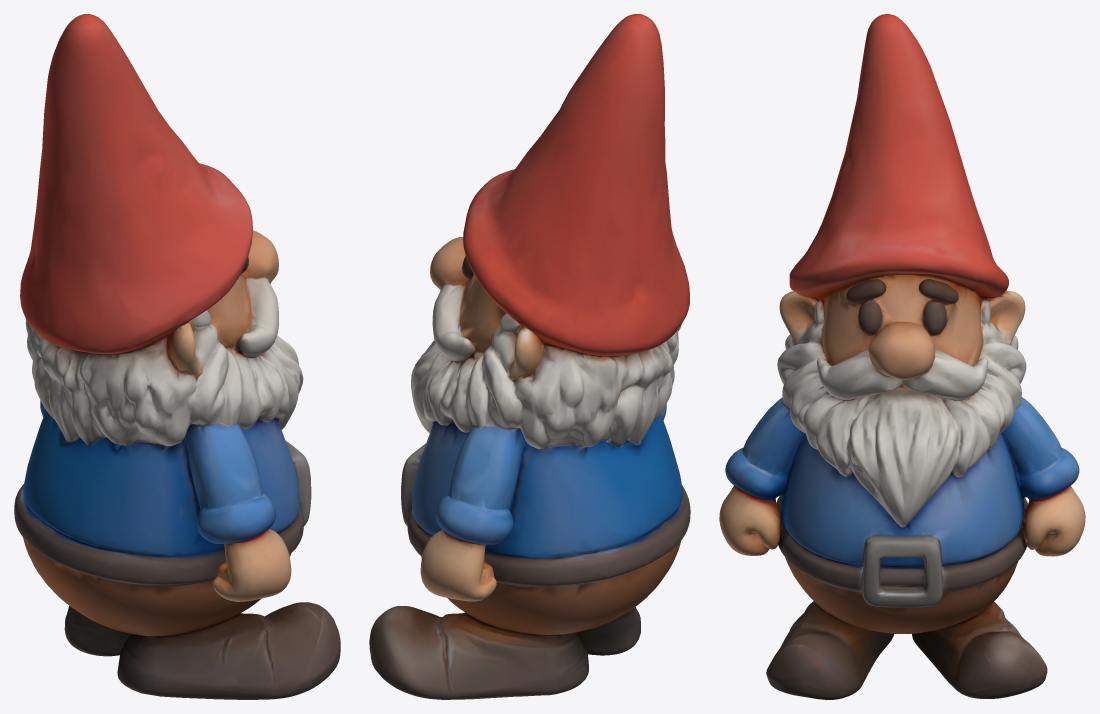
The model's file is prop-garden-gnome.glb.
The picture shows the model from 3 angles, left to right: view 1: azimuth 30°, elevation 25°; view 2: azimuth 150°, elevation 25°; view 3: azimuth 270°, elevation 25°; orthographic projection. The views are drawn at different scales.
Visible parts, largest first — view 1: tripo_node_5eada0d1-c393-48a4-8403-94a7acfc85fc; view 2: tripo_node_5eada0d1-c393-48a4-8403-94a7acfc85fc; view 3: tripo_node_5eada0d1-c393-48a4-8403-94a7acfc85fc.
Part boxes in pixels (x1=…): tripo_node_5eada0d1-c393-48a4-8403-94a7acfc85fc: x1=14, y1=14, x2=340, y2=699; tripo_node_5eada0d1-c393-48a4-8403-94a7acfc85fc: x1=369, y1=14, x2=690, y2=699; tripo_node_5eada0d1-c393-48a4-8403-94a7acfc85fc: x1=719, y1=14, x2=1085, y2=699.
Bounding box in the file's own units: 0.1997 × 0.5 × 0.2734.
1 material, 1 textured.
